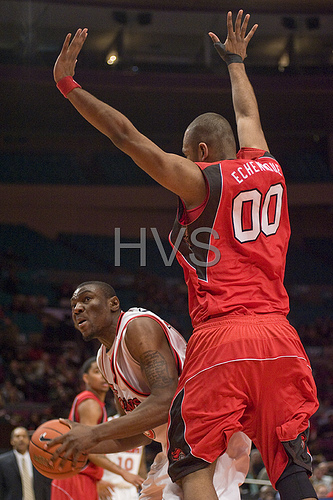basketball: (28, 418, 84, 481)
